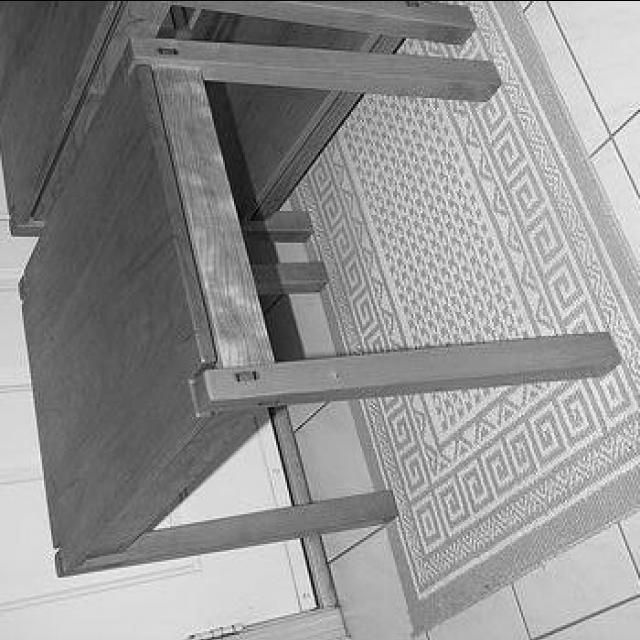table: (14, 27, 620, 579)
